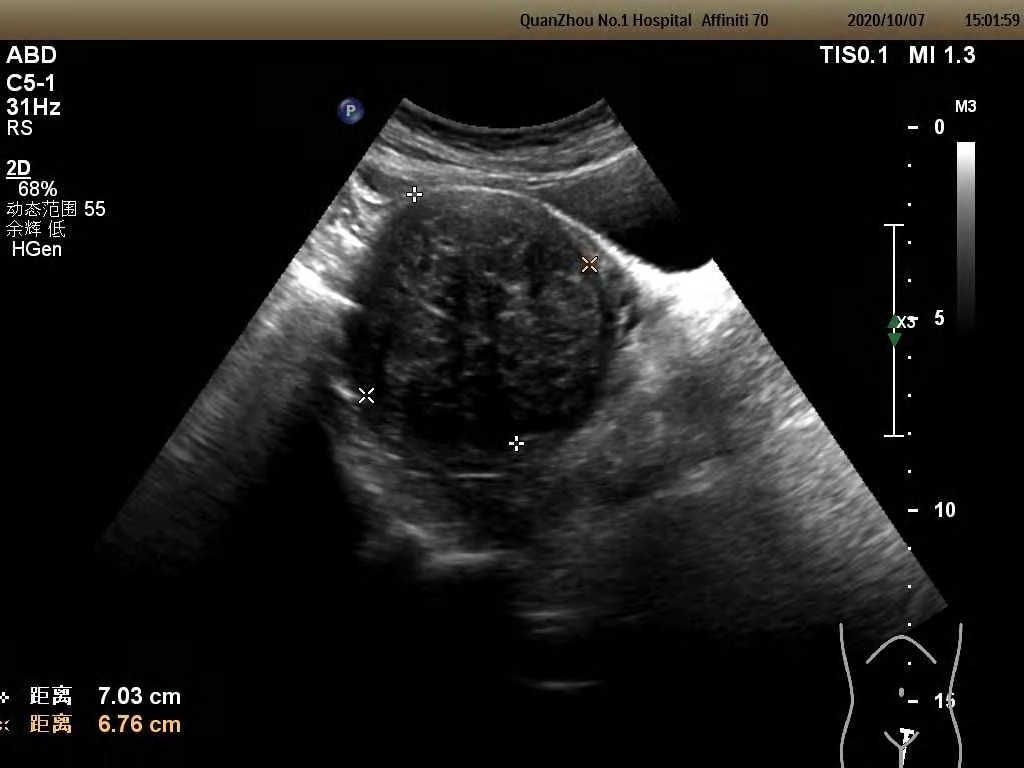肌瘤: (356, 205, 595, 461)
